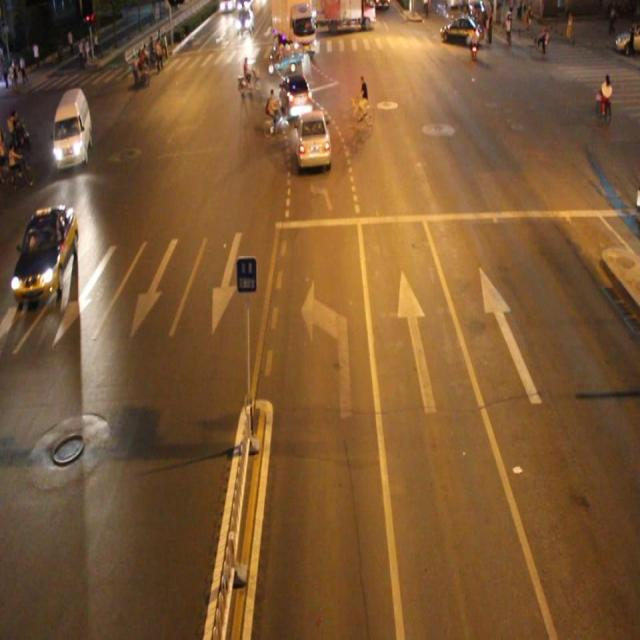car: (11, 206, 78, 300), (293, 108, 332, 171), (280, 72, 312, 121)
truck: (52, 87, 90, 168)
